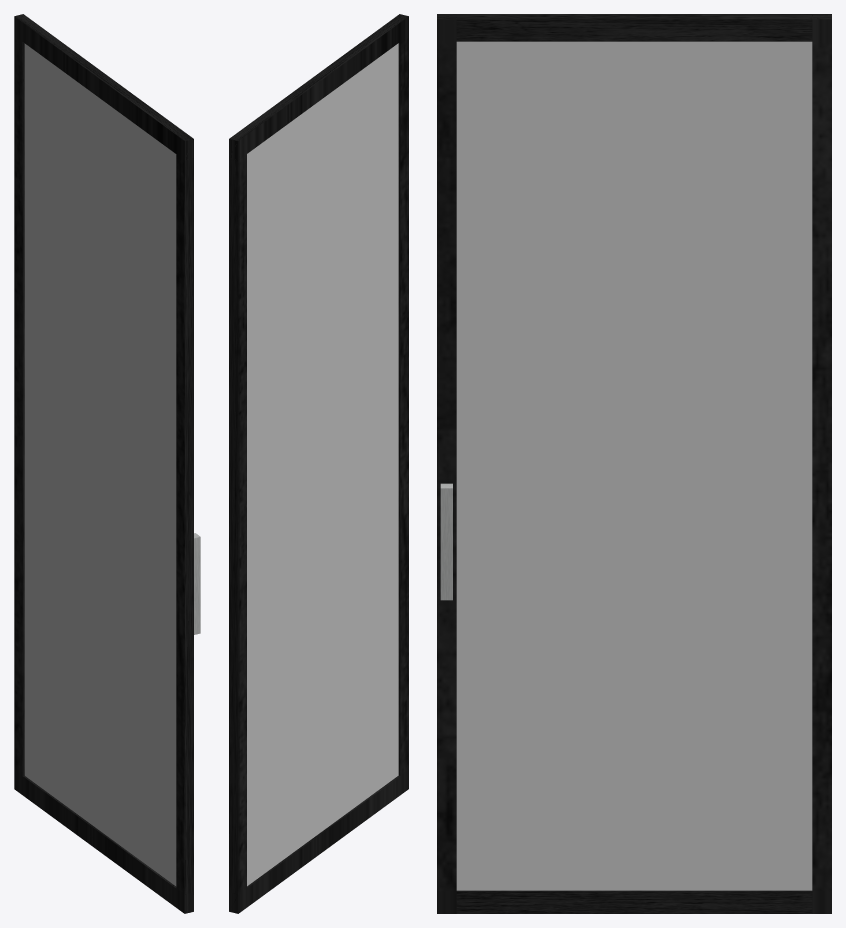
File: Kast_DoorRight1.fbx
3 renders of one model, left to right at view 1: azimuth 30°, elevation 25°; view 2: azimuth 150°, elevation 25°; view 3: azimuth 270°, elevation 25°, orthographic. The views are drawn at different scales.
Visible parts, largest first — view 1: Glas.002, hendel.002; view 2: Glas.002, hendel.002; view 3: Glas.002, hendel.002.
Part boxes in pixels (x1=…): Glas.002: x1=24, y1=43, x2=176, y2=886; hendel.002: x1=14, y1=14, x2=200, y2=913; Glas.002: x1=247, y1=43, x2=398, y2=886; hendel.002: x1=229, y1=14, x2=408, y2=913; Glas.002: x1=456, y1=41, x2=812, y2=890; hendel.002: x1=437, y1=14, x2=831, y2=913.
Bounding box in the file's own units: 4.78 × 200 × 80.
